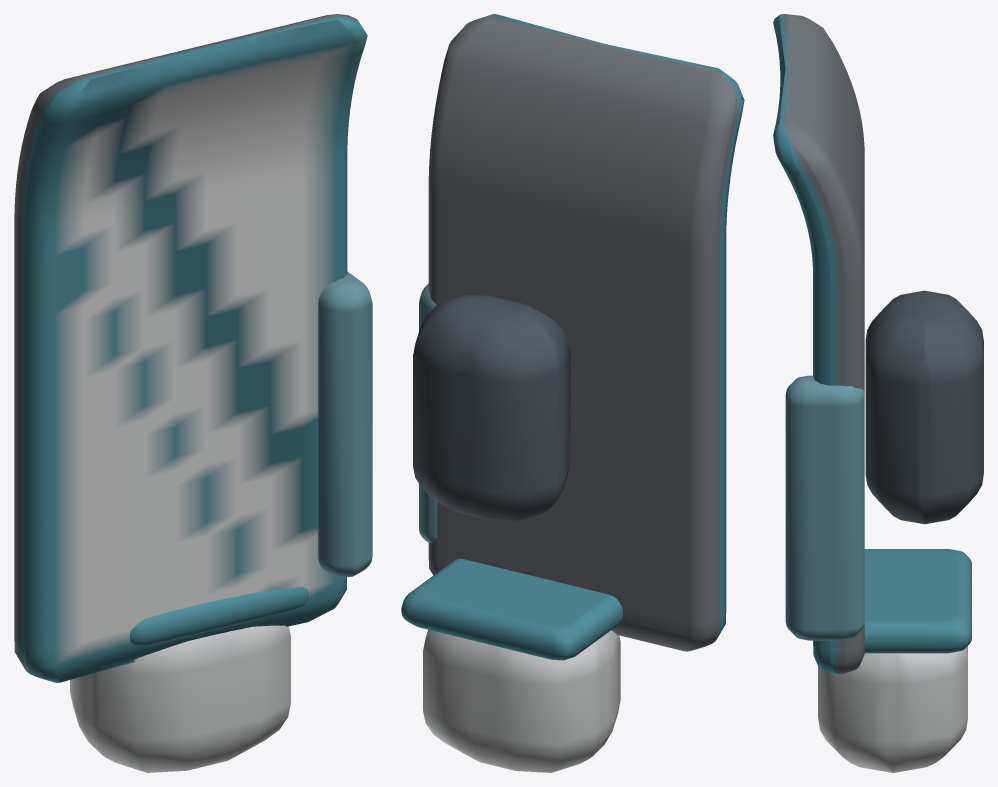
The model's file is blocker_right_hand.glb.
3 renders of one model, left to right at view 1: azimuth 30°, elevation 25°; view 2: azimuth 150°, elevation 25°; view 3: azimuth 270°, elevation 25°, orthographic. The views are drawn at different scales.
Parts seen in each view (by area): view 1: blocker_right_hand2; view 2: blocker_right_hand2; view 3: blocker_right_hand2.
Part boxes in pixels (box(x1,y1,x2,y2)): blocker_right_hand2: box(14, 14, 372, 772); blocker_right_hand2: box(401, 14, 744, 772); blocker_right_hand2: box(773, 14, 983, 772).
Bounding box in the file's own units: 0.2125 × 0.4675 × 0.1335.
